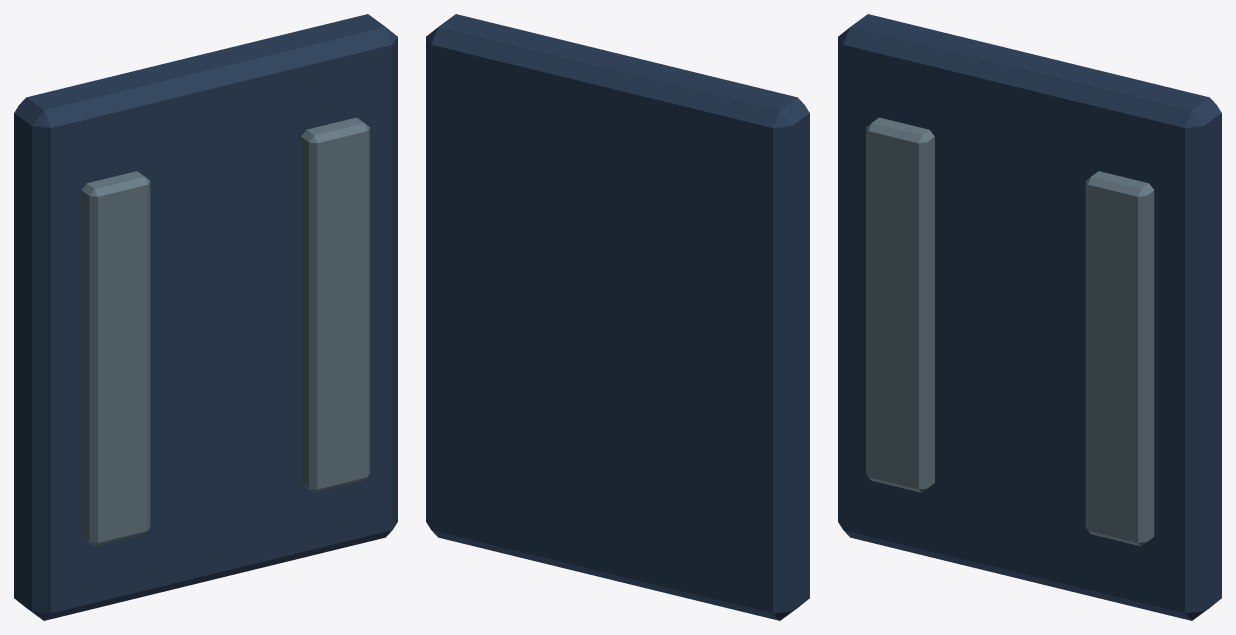
File: fps-armor-plate.lod0.glb
The picture shows the model from 3 angles, left to right: view 1: azimuth 30°, elevation 25°; view 2: azimuth 150°, elevation 25°; view 3: azimuth 330°, elevation 25°; orthographic projection.
Parts seen in each view (by area): view 1: fps-armor-plate__body; view 2: fps-armor-plate__body; view 3: fps-armor-plate__body.
Part boxes in pixels (x1,y1,x2,y2): fps-armor-plate__body: (14,14,397,620); fps-armor-plate__body: (426,14,809,620); fps-armor-plate__body: (838,14,1221,620).
Size of the model in its own units: 0.3 by 0.4 by 0.0605.
